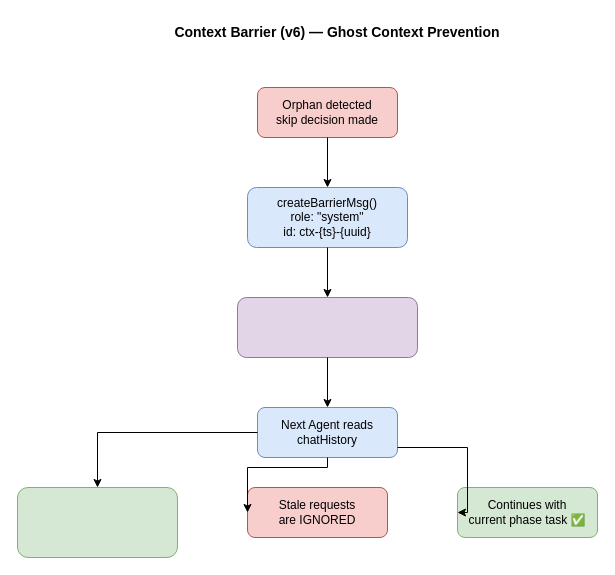
This 615x575 diagram has some shape labels left out. Here are the shapes that lost their labels. From the top down, the centre of each, then its label:
pixel 327 327: Inject into chatHistory: [...old, barrierMsg] (append — NOT replace)
pixel 97 522: Sees barrier msg: "Phase 'X' SKIPPED. Requests void. Current: 'Y'."
